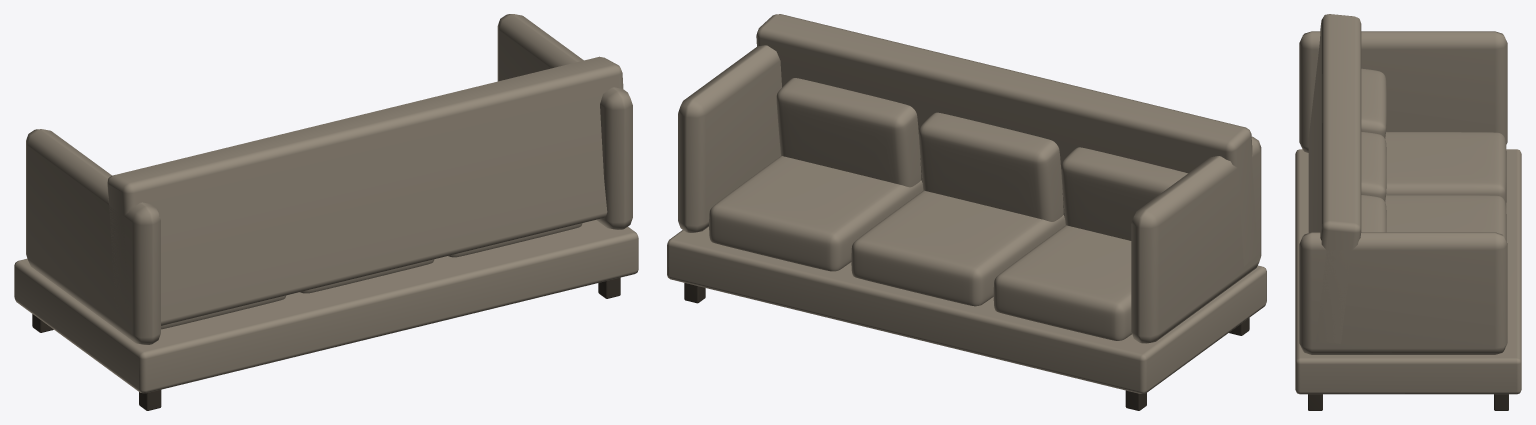
File: sofa.glb
3 views of the same model, side by side, from view 1: azimuth 30°, elevation 25°; view 2: azimuth 150°, elevation 25°; view 3: azimuth 270°, elevation 25° (orthographic). The views are drawn at different scales.
Visible parts, largest first — view 1: leg; view 2: leg; view 3: leg.
Boxes of the visible parts, x1,y1,x2,y2 form: leg: [14, 14, 638, 410]; leg: [667, 14, 1266, 410]; leg: [1295, 14, 1521, 410].
Size of the model in its own units: 2 by 0.8474 by 0.9.
